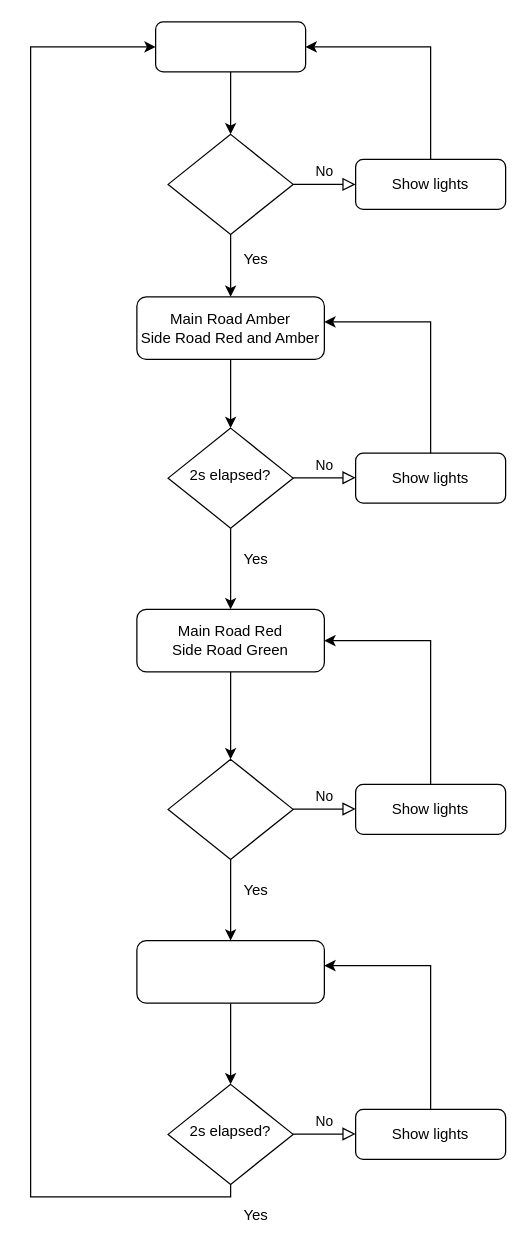
The diagram is 528 pixels wide and 1250 high, and some of its shapes have lost their labels. The shapes that lost their labels are listed below. From the top down, each one's centre as x and y in pixels, then its label:
the point at 230,46: Main Road Green Side Road Red
the point at 230,183: 40s elapsed?
the point at 230,808: 20s elapsed?
the point at 230,971: Main Road Red and Amber Side Road Amber
